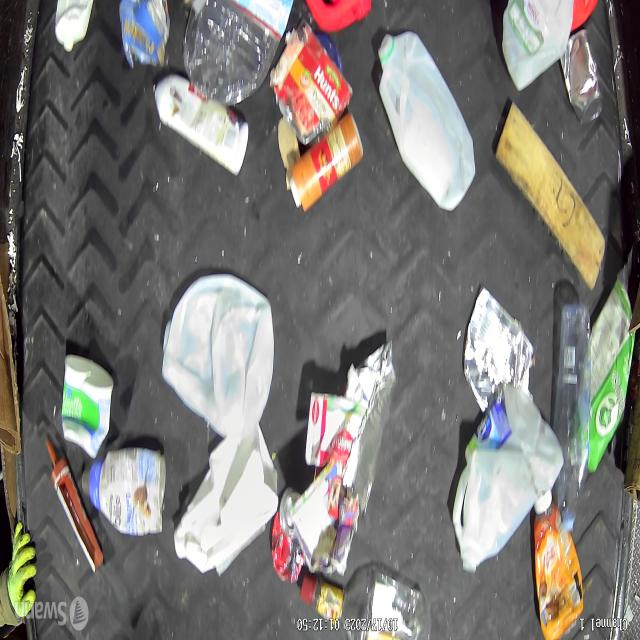can: (464, 289, 532, 411), (559, 30, 601, 124), (272, 486, 304, 584)
milk_jug: (163, 274, 273, 436), (377, 33, 473, 210), (452, 449, 538, 572), (502, 1, 576, 91)
non_white_jug: (534, 501, 584, 639)
plastic_bottle: (552, 303, 590, 532)
